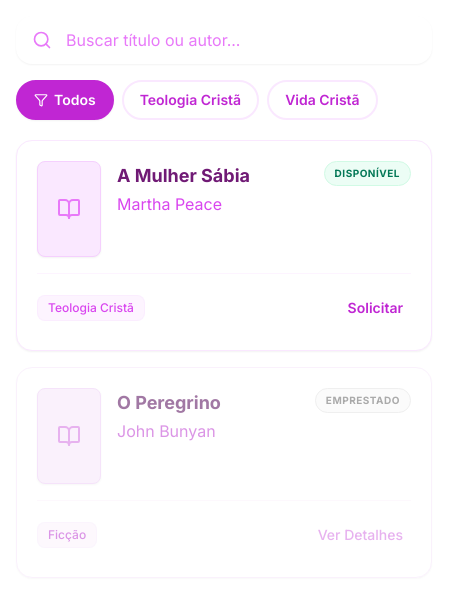
Test case: BookList Component › filters books by title when searching
In the field with placeholder "Buscar título ou autor...": (224, 40) [16, 16, 432, 64], type "Peregrino"
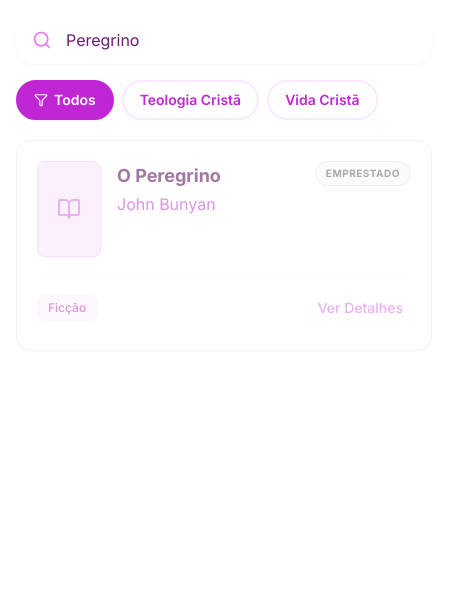
Expected: the heading "O Peregrino" is shown, [117, 165, 221, 188]
Result: the heading "A Mulher Sábia" is gone
